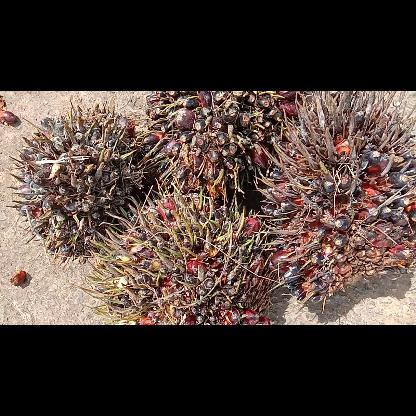TBS abnormal: (271, 90, 415, 306), (90, 196, 283, 324), (18, 109, 150, 261), (143, 91, 303, 201)
